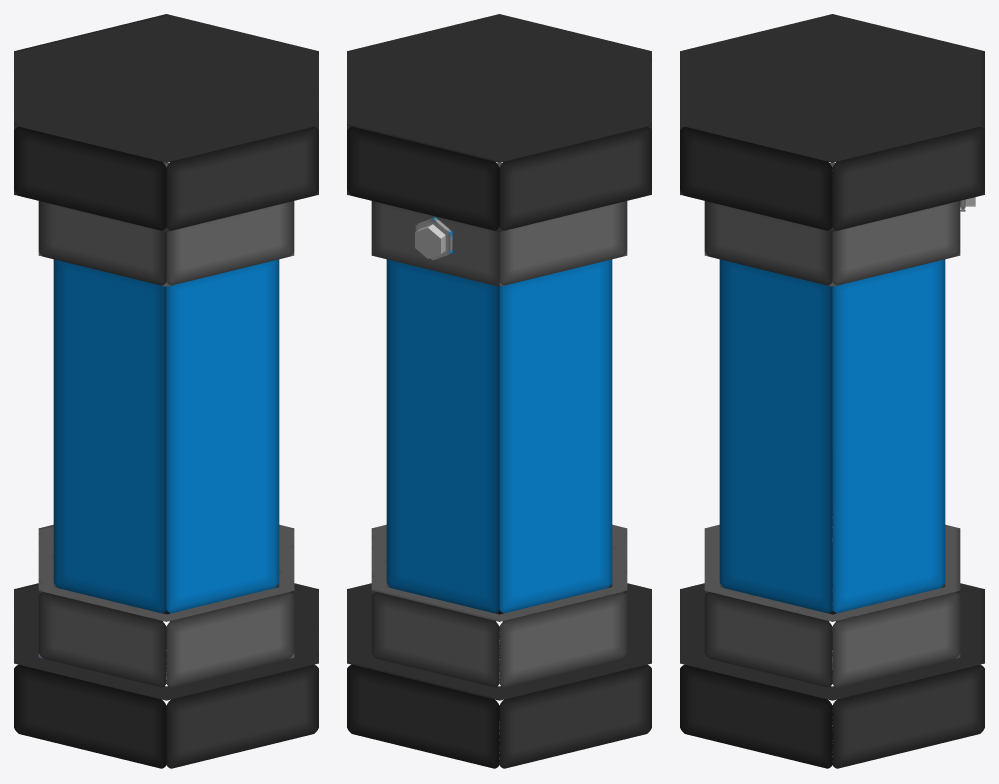
File: Water_Tank.fbx
The picture shows the model from 3 angles, left to right: view 1: azimuth 30°, elevation 25°; view 2: azimuth 150°, elevation 25°; view 3: azimuth 270°, elevation 25°; orthographic projection.
Parts seen in each view (by area): view 1: Water_Tank, Water_Tank_Water; view 2: Water_Tank, Water_Tank_Water, Water_Tank_Light; view 3: Water_Tank, Water_Tank_Water.
Boxes of the visible parts, box(x1,y1,x2,y2) form: Water_Tank: box(14, 14, 318, 768); Water_Tank_Water: box(53, 259, 279, 613); Water_Tank: box(347, 14, 651, 768); Water_Tank_Water: box(386, 217, 612, 613); Water_Tank_Light: box(415, 224, 445, 258); Water_Tank: box(680, 14, 984, 768); Water_Tank_Water: box(719, 232, 945, 613).
Bounding box in the file's own units: 200 × 381 × 173.
